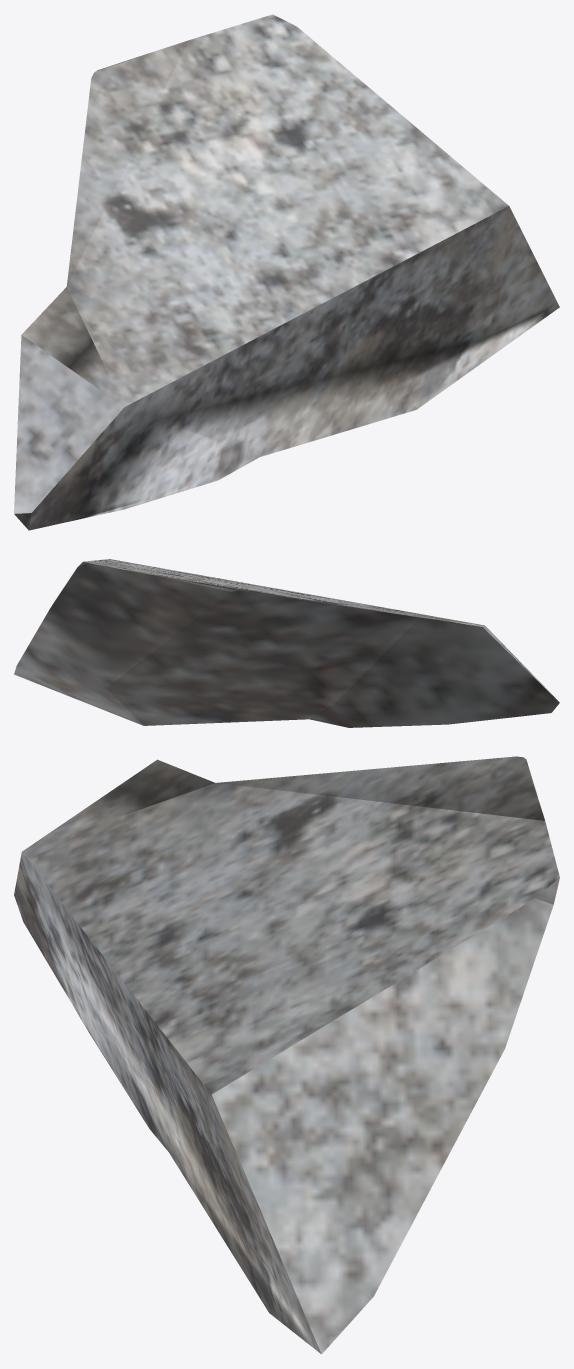
Rendered from Asteroid_Medium_001_02_003_03_003.fbx.
The picture shows the model from 3 angles, top to bottom: view 1: azimuth 30°, elevation 25°; view 2: azimuth 150°, elevation 25°; view 3: azimuth 270°, elevation 25°; orthographic projection. The views are drawn at different scales.
Visible parts, largest first — view 1: Asteroid_Medium_001_02_003_03_003; view 2: Asteroid_Medium_001_02_003_03_003; view 3: Asteroid_Medium_001_02_003_03_003.
Boxes of the visible parts, bbox=[...] form: Asteroid_Medium_001_02_003_03_003: bbox=[14, 14, 559, 530]; Asteroid_Medium_001_02_003_03_003: bbox=[14, 559, 559, 727]; Asteroid_Medium_001_02_003_03_003: bbox=[14, 756, 559, 1354].
Size of the model in its own units: 7.9 by 3.68 by 4.38.
